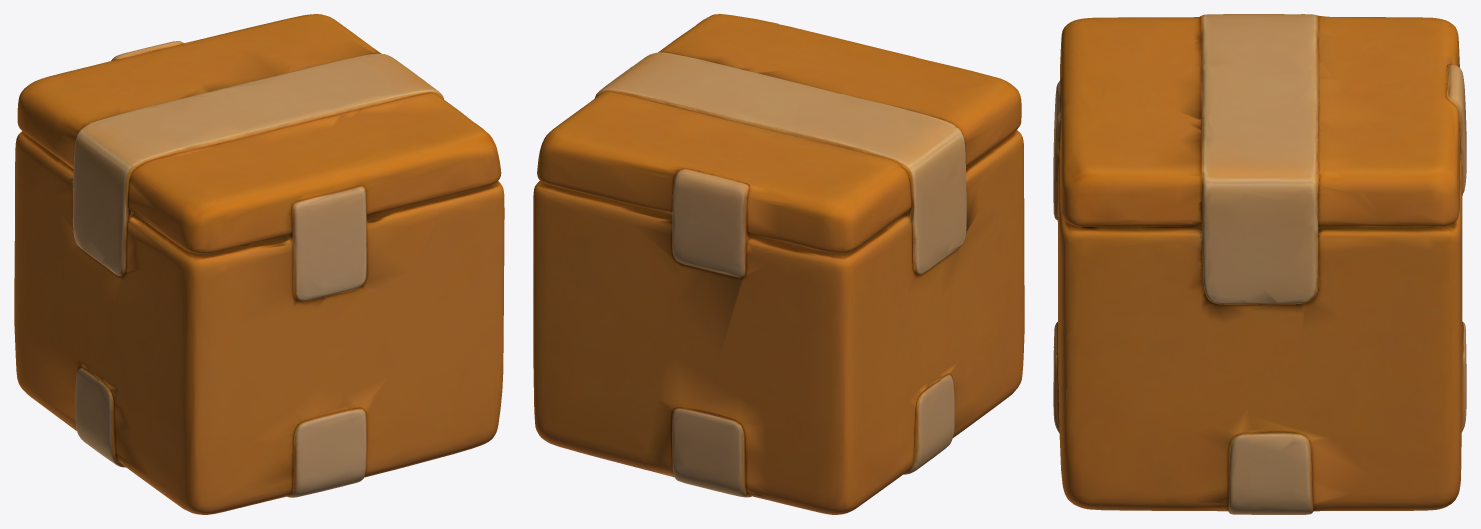
The model's file is box_small.glb.
3 views of the same model, side by side, from view 1: azimuth 30°, elevation 25°; view 2: azimuth 150°, elevation 25°; view 3: azimuth 270°, elevation 25° (orthographic). The views are drawn at different scales.
Visible parts, largest first — view 1: tripo_node_afd81452-3582-412b-8148-37f83966fe94; view 2: tripo_node_afd81452-3582-412b-8148-37f83966fe94; view 3: tripo_node_afd81452-3582-412b-8148-37f83966fe94.
Boxes of the visible parts, <box> form: tripo_node_afd81452-3582-412b-8148-37f83966fe94: <box>14,14,504,514</box>; tripo_node_afd81452-3582-412b-8148-37f83966fe94: <box>533,14,1024,514</box>; tripo_node_afd81452-3582-412b-8148-37f83966fe94: <box>1053,14,1466,514</box>.
Size of the model in its own units: 0.9969 by 0.98 by 0.9998.
1 material, 1 textured.
